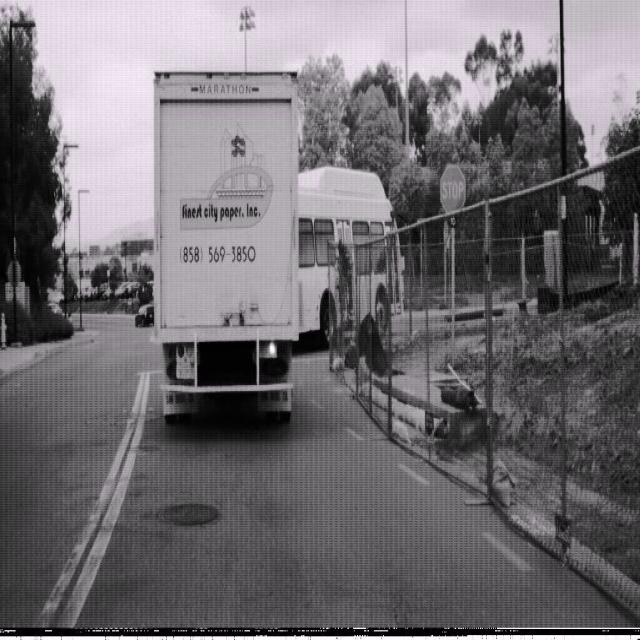stop: (439, 162, 466, 214)
